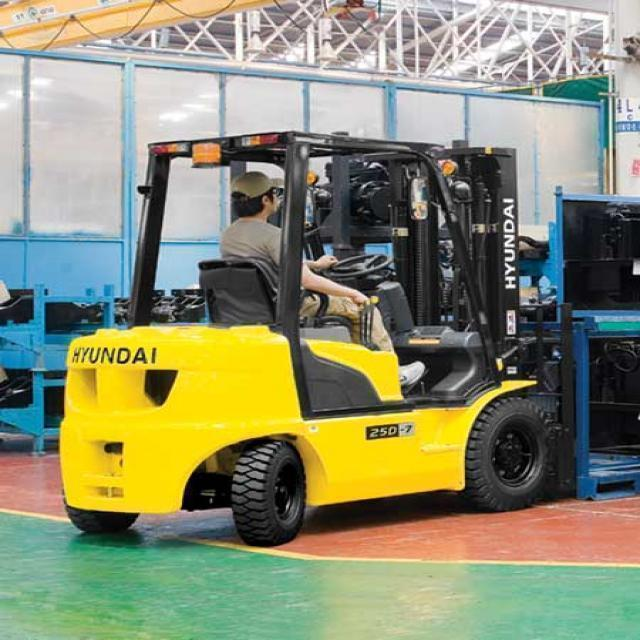forklift: (49, 116, 574, 550)
